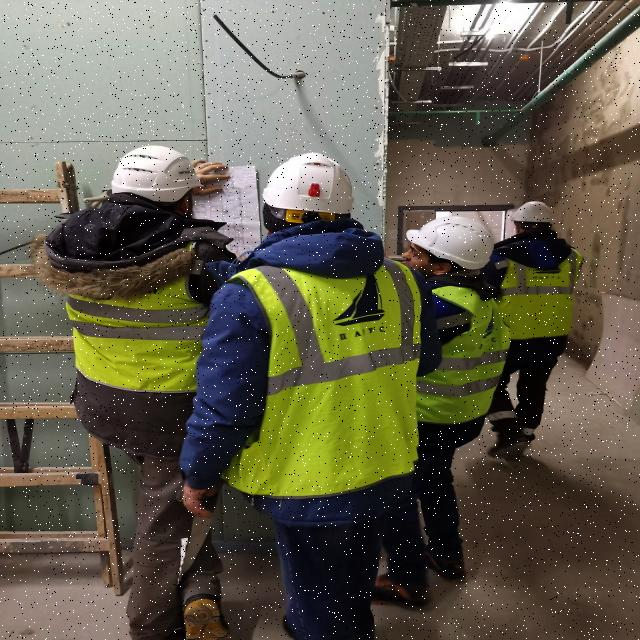Helmet: (264, 154, 358, 213), (114, 146, 200, 203), (402, 219, 492, 272), (512, 203, 554, 225)
Jacket: (233, 265, 413, 492), (71, 249, 203, 388), (419, 292, 501, 421), (506, 245, 572, 336)
